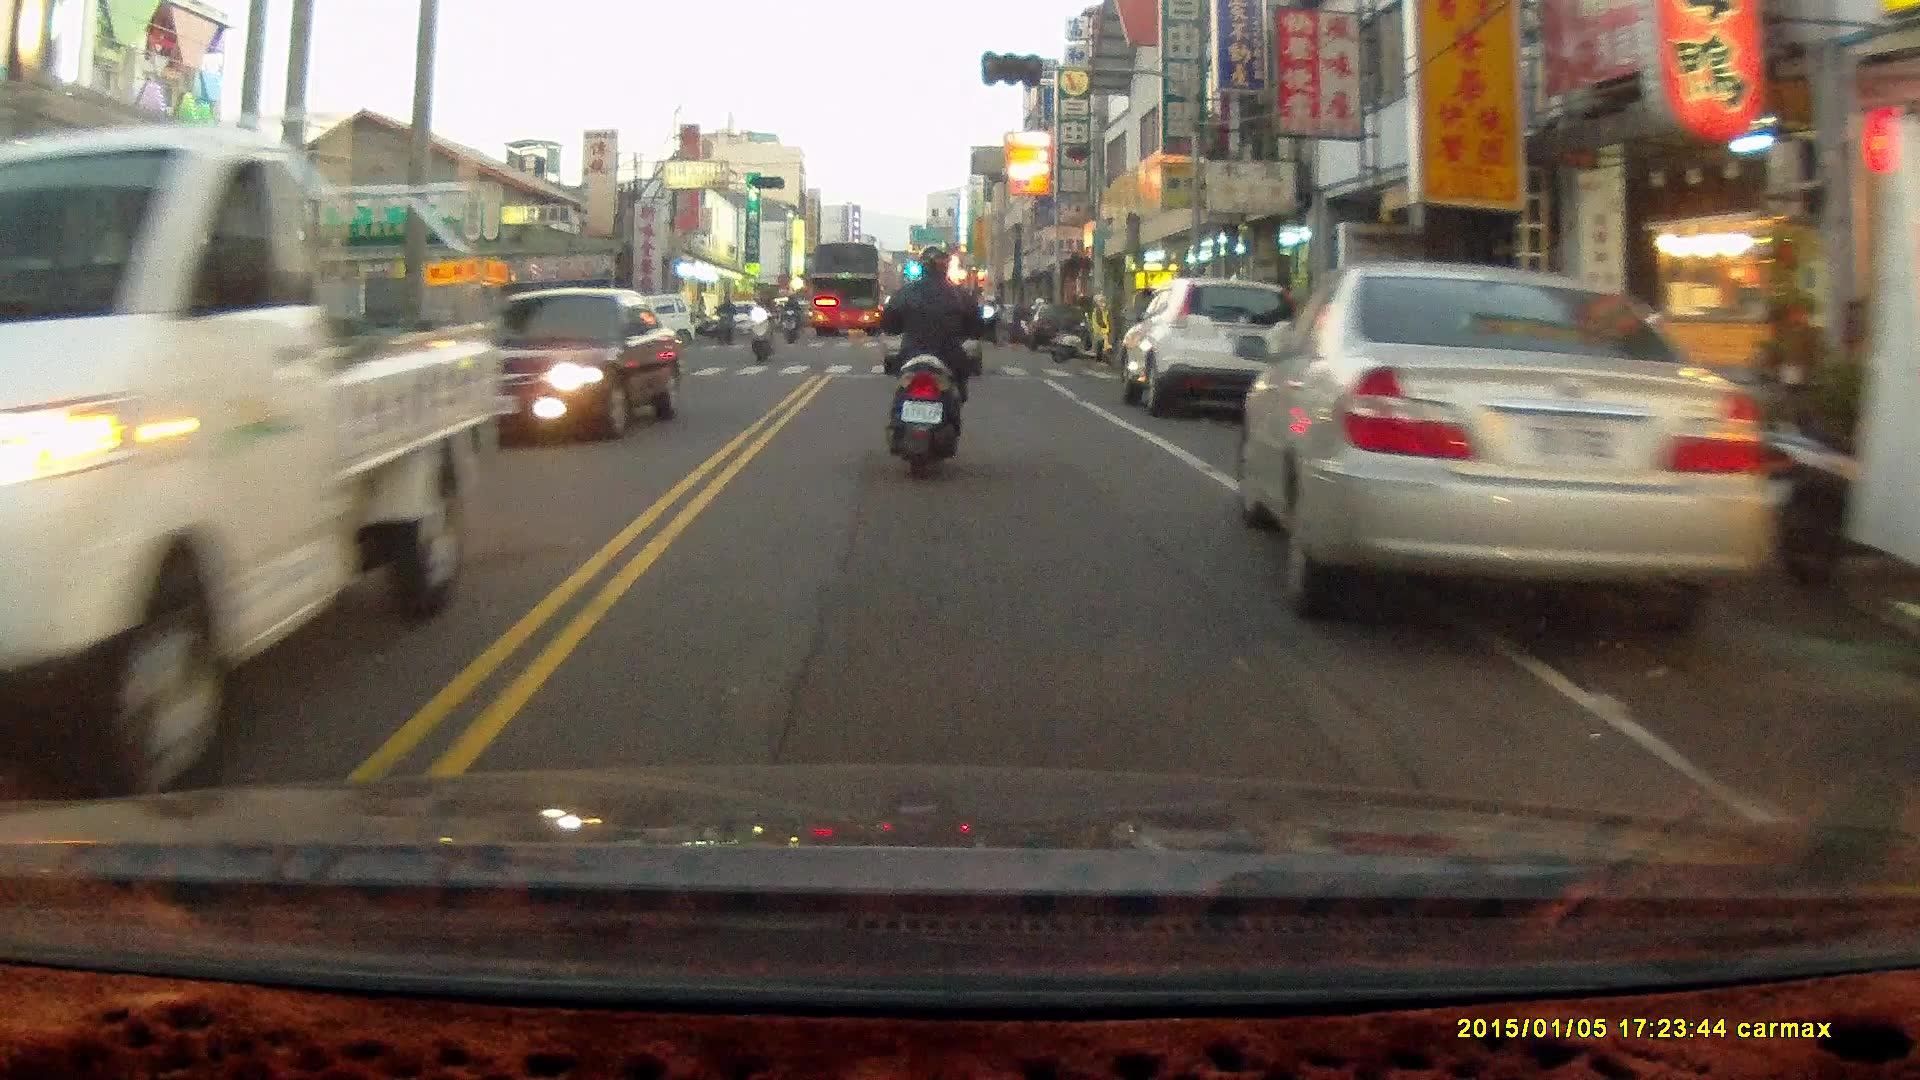pedestrian: (1087, 290, 1111, 367)
rider: (873, 244, 995, 481), (745, 283, 775, 359), (713, 291, 735, 346), (781, 290, 801, 347)
vehicle: (1, 123, 499, 792), (1233, 263, 1774, 640), (432, 288, 689, 454), (1123, 277, 1293, 415), (806, 245, 889, 338)
